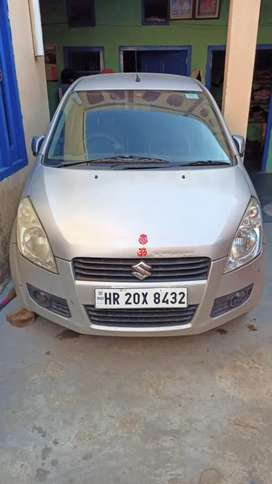HR20X8432: (95, 288, 186, 309)
